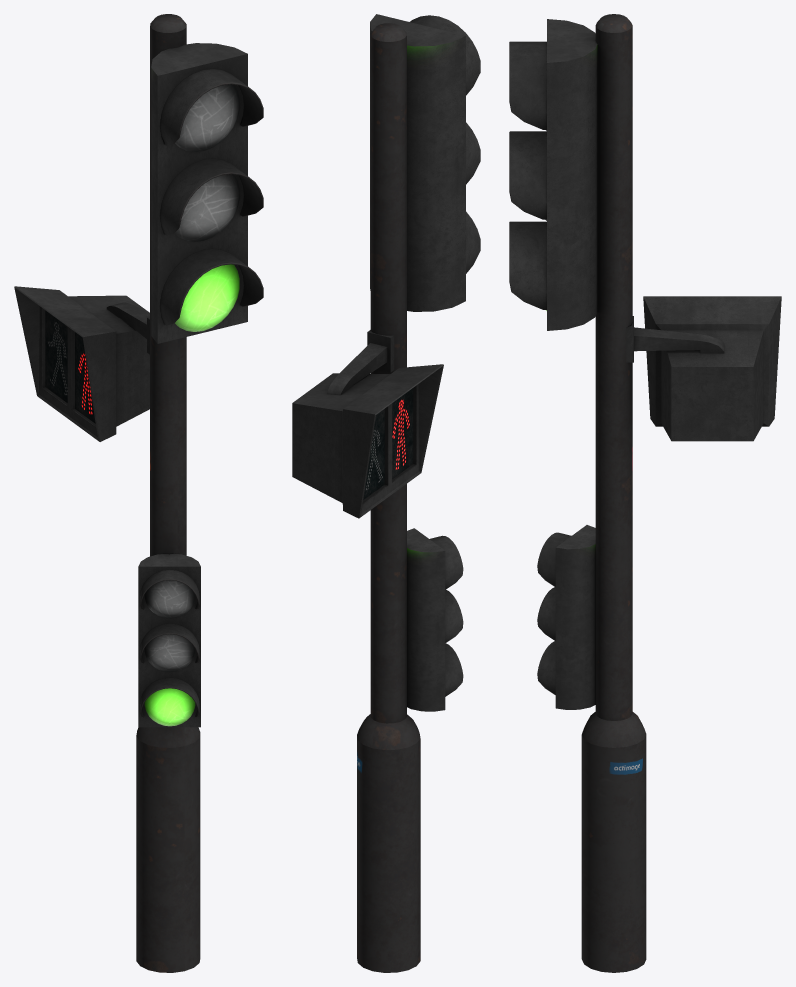
3 renders of one model, left to right at view 1: azimuth 30°, elevation 25°; view 2: azimuth 150°, elevation 25°; view 3: azimuth 270°, elevation 25°, orthographic.
Visible parts, largest first — view 1: Traffic_Light_green; view 2: Traffic_Light_green; view 3: Traffic_Light_green.
Boxes of the visible parts, x1,y1,x2,y2 form: Traffic_Light_green: [14, 14, 263, 972]; Traffic_Light_green: [292, 14, 480, 972]; Traffic_Light_green: [509, 14, 781, 972].
Size of the model in its own units: 49.23 by 379 by 99.57.
Materials: 4 (4 with a texture image).
